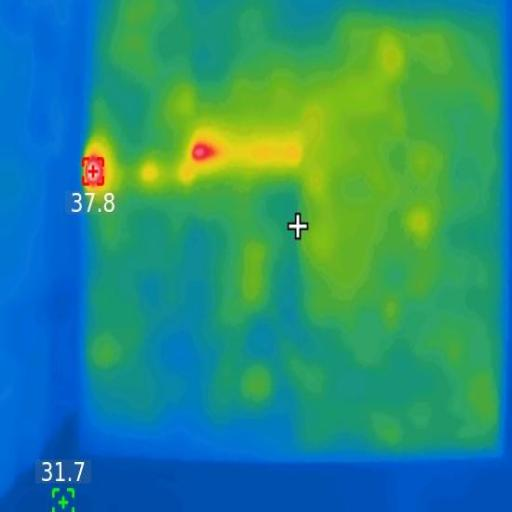hotspot: (83, 151, 108, 192), (188, 138, 219, 163)
